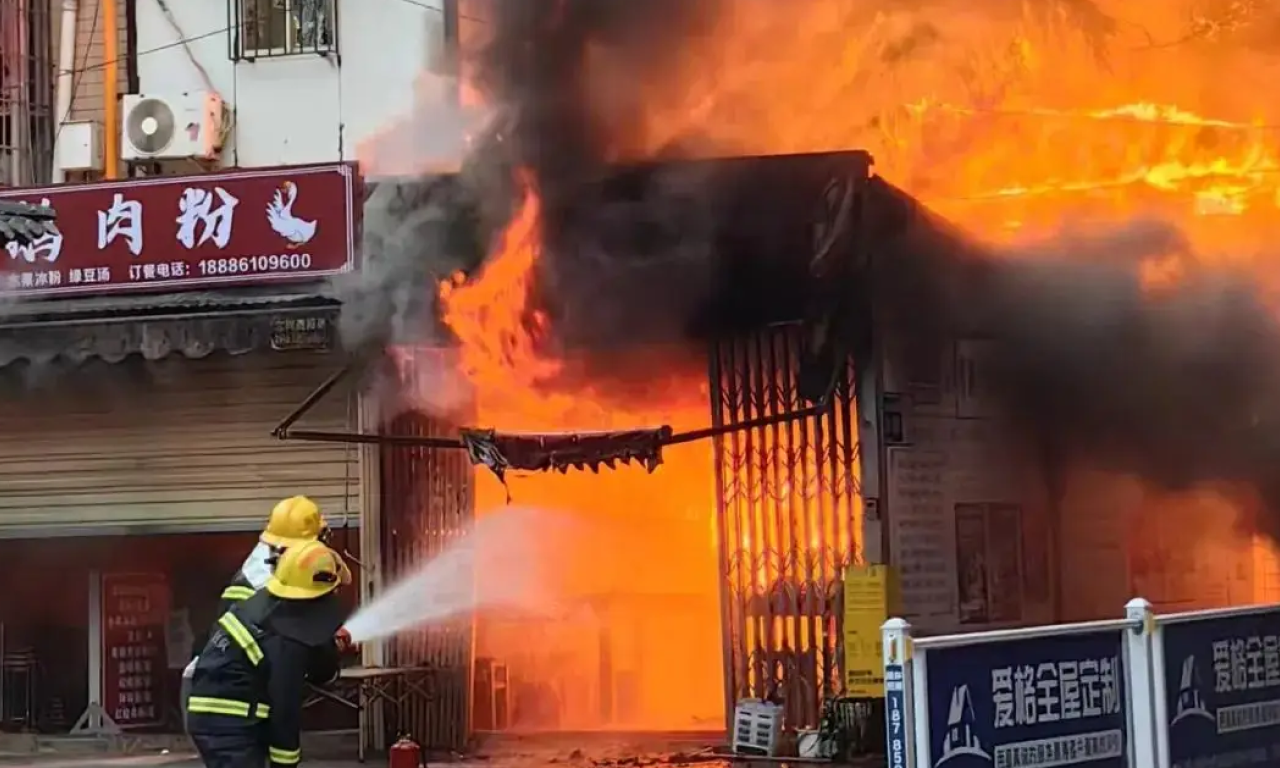fire: (354, 16, 1259, 727)
